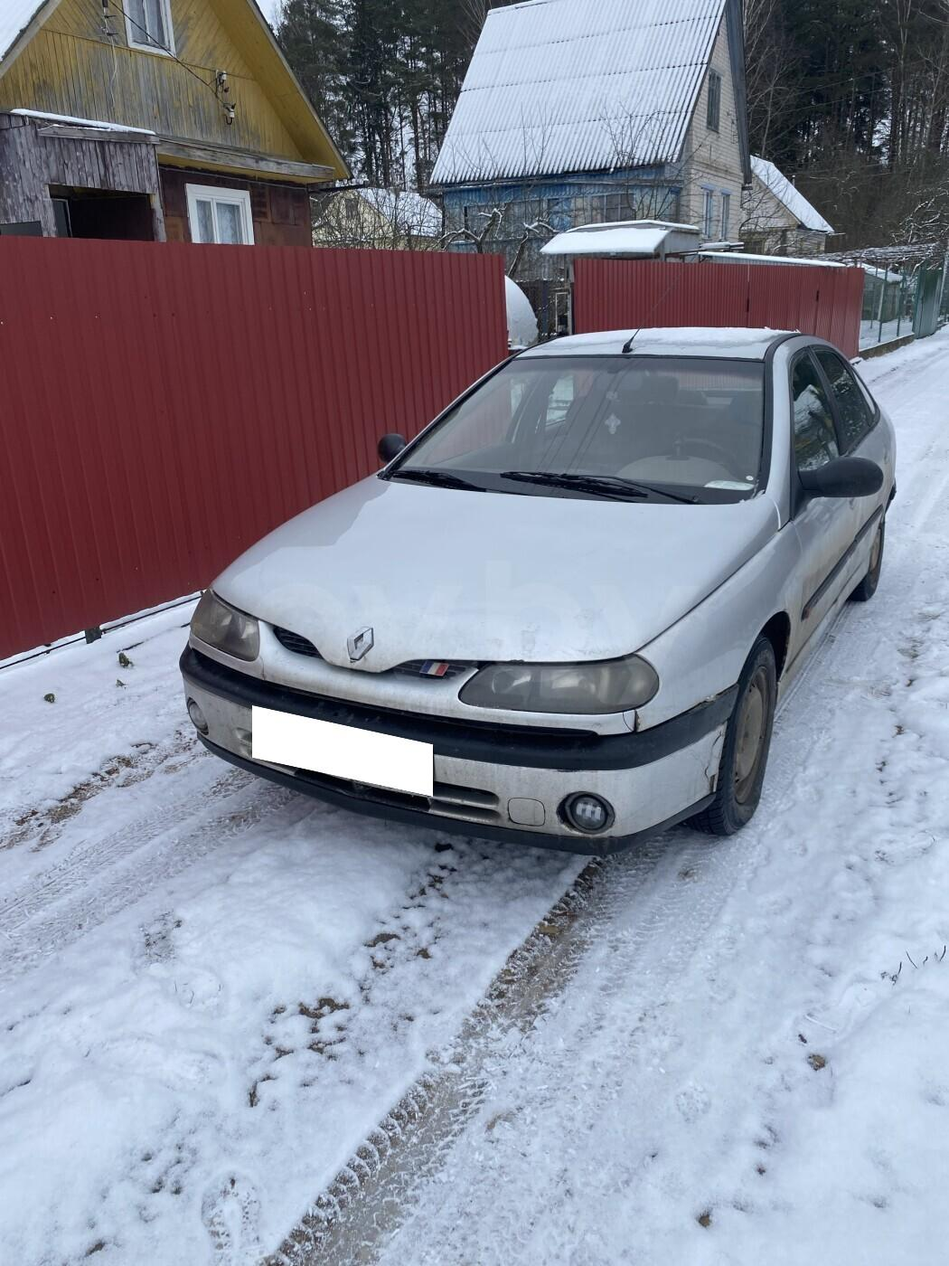Laguna_1998-2001: (183, 326, 911, 848)
